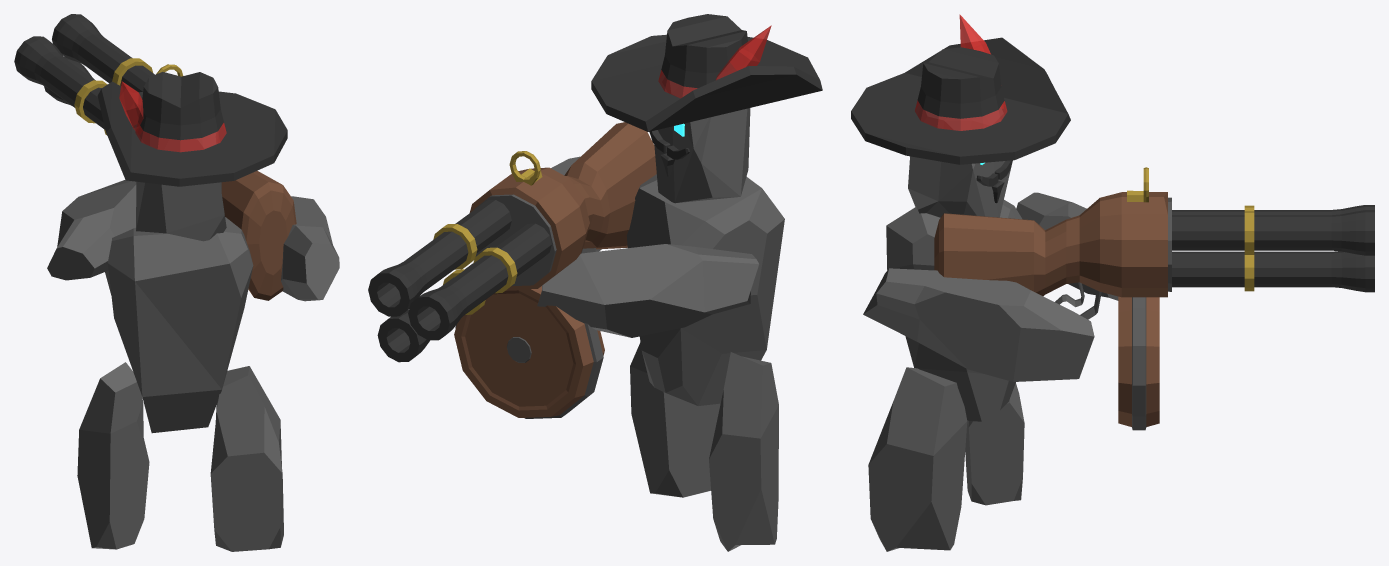
Rendered from golemMG.fbx.
The picture shows the model from 3 angles, left to right: view 1: azimuth 30°, elevation 25°; view 2: azimuth 150°, elevation 25°; view 3: azimuth 270°, elevation 25°; orthographic projection. The views are drawn at different scales.
Visible parts, largest first — view 1: Cube.003; view 2: Cube.003; view 3: Cube.003.
Boxes of the visible parts, x1,y1,x2,y2 form: Cube.003: [14, 14, 339, 551]; Cube.003: [368, 14, 822, 551]; Cube.003: [851, 14, 1374, 551].
Bounding box in the file's own units: 407 × 770 × 760.
